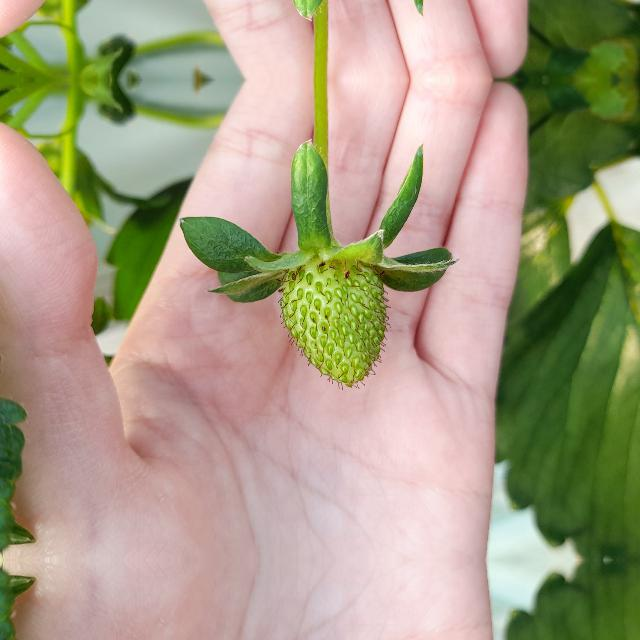Health_25: (275, 254, 391, 390)
